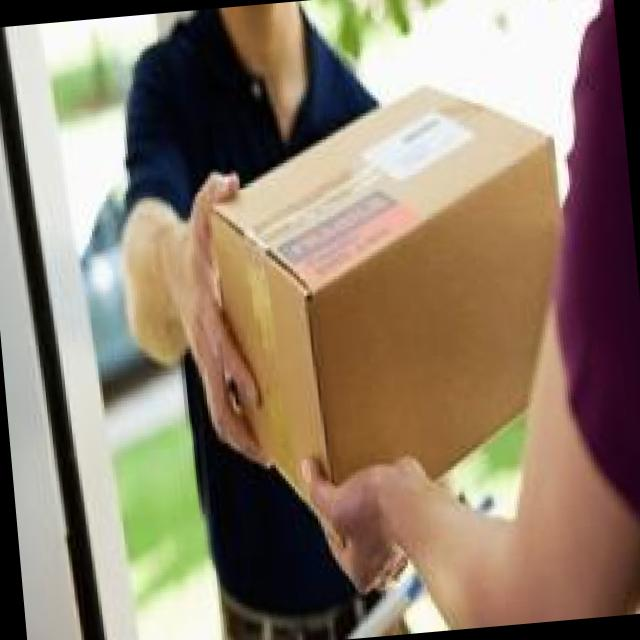box: (208, 83, 566, 554)
